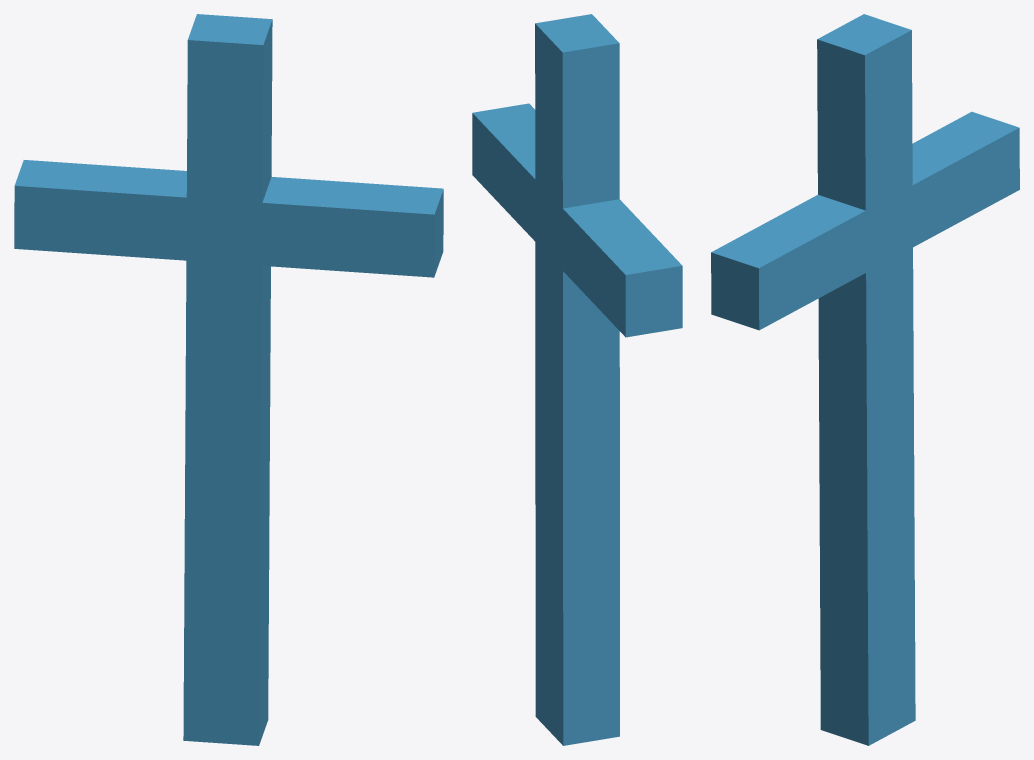
The model's file is cross.FBX.
3 renders of one model, left to right at view 1: azimuth 30°, elevation 25°; view 2: azimuth 150°, elevation 25°; view 3: azimuth 270°, elevation 25°, orthographic.
Parts seen in each view (by area): view 1: Box01; view 2: Box01; view 3: Box01.
Boxes of the visible parts, x1,y1,x2,y2 form: Box01: (14,14,443,745); Box01: (472,14,682,745); Box01: (711,14,1019,745).
Bounding box in the file's own units: 53.29 × 111 × 44.98.
